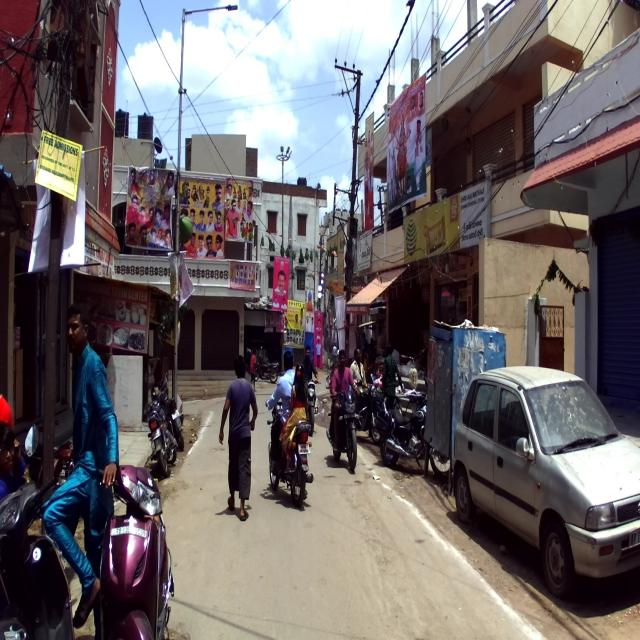car: (451, 366, 639, 602)
motorcycle: (266, 391, 314, 507), (376, 392, 429, 470), (325, 378, 362, 472), (146, 380, 176, 477), (348, 374, 386, 444)
scooter: (0, 422, 80, 640), (90, 458, 175, 639)
